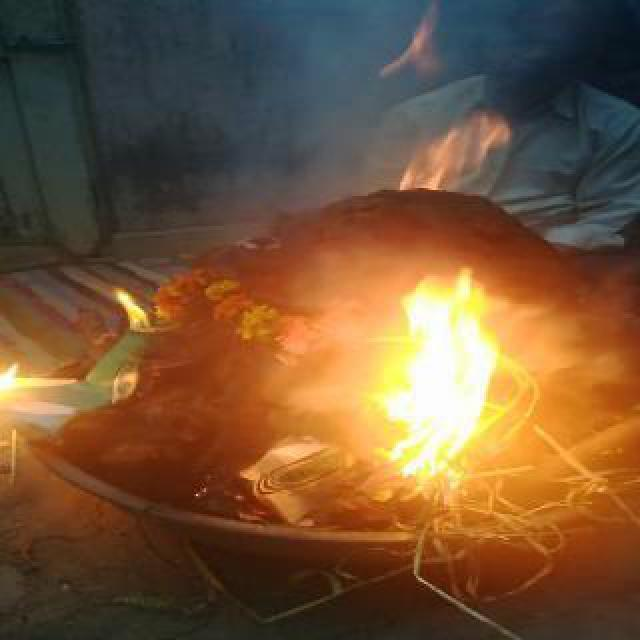Fire: (380, 266, 504, 490), (392, 106, 510, 198), (384, 2, 450, 84), (2, 354, 68, 410), (114, 278, 158, 336)
Smoke: (264, 266, 384, 448)
